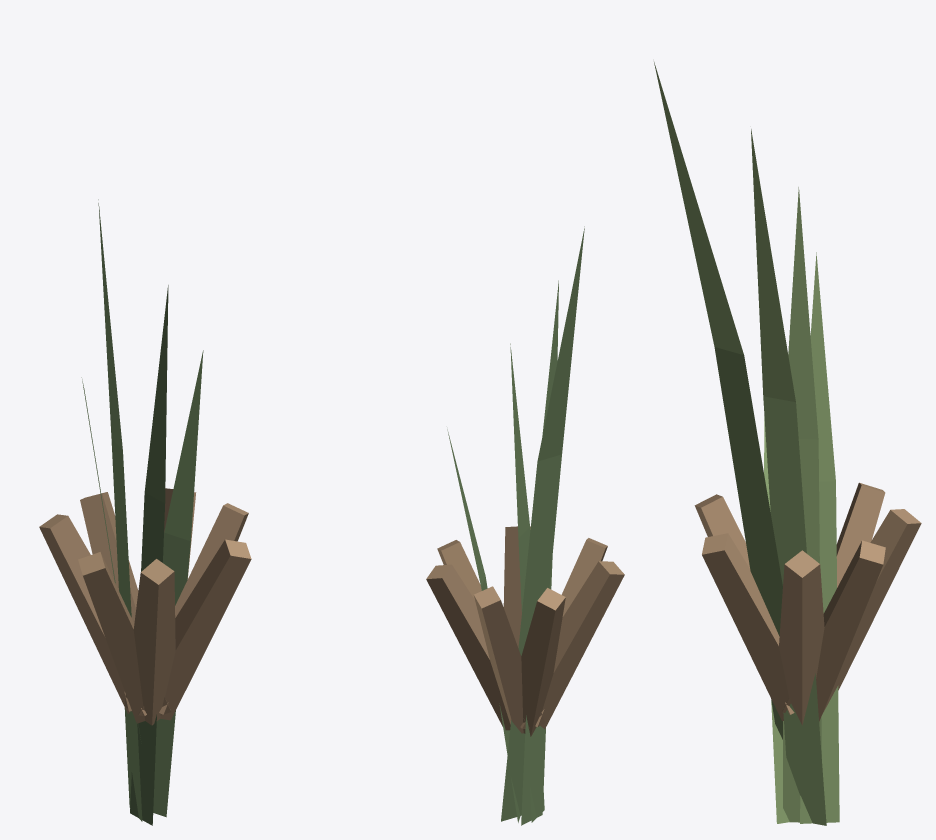
Rendered from shui.changpu@flowering__summer.glb.
The picture shows the model from 3 angles, left to right: view 1: azimuth 30°, elevation 25°; view 2: azimuth 150°, elevation 25°; view 3: azimuth 270°, elevation 25°; orthographic projection. The views are drawn at different scales.
Parts seen in each view (by area): view 1: shui.changpu@flowering__summer; view 2: shui.changpu@flowering__summer; view 3: shui.changpu@flowering__summer.
Part boxes in pixels (bbox=[...]): shui.changpu@flowering__summer: bbox=[39, 199, 251, 825]; shui.changpu@flowering__summer: bbox=[426, 226, 624, 825]; shui.changpu@flowering__summer: bbox=[654, 62, 921, 825].
Size of the model in its own units: 0.5859 by 1.62 by 0.4645.
